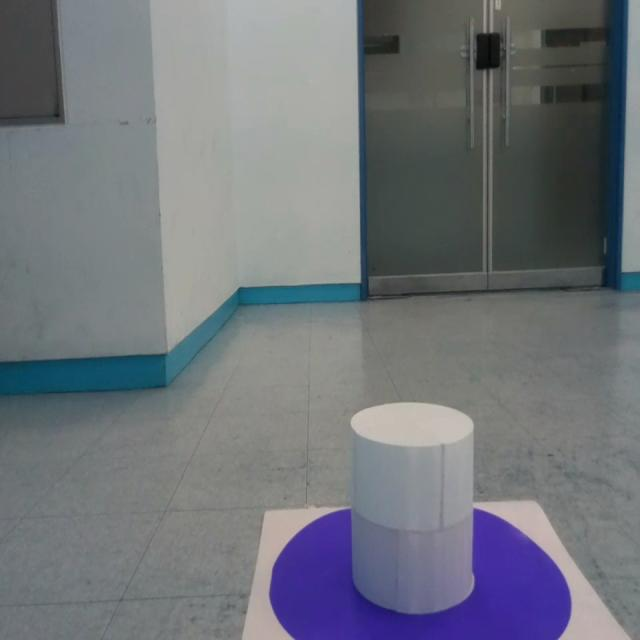cylinder: (348, 402, 475, 615)
